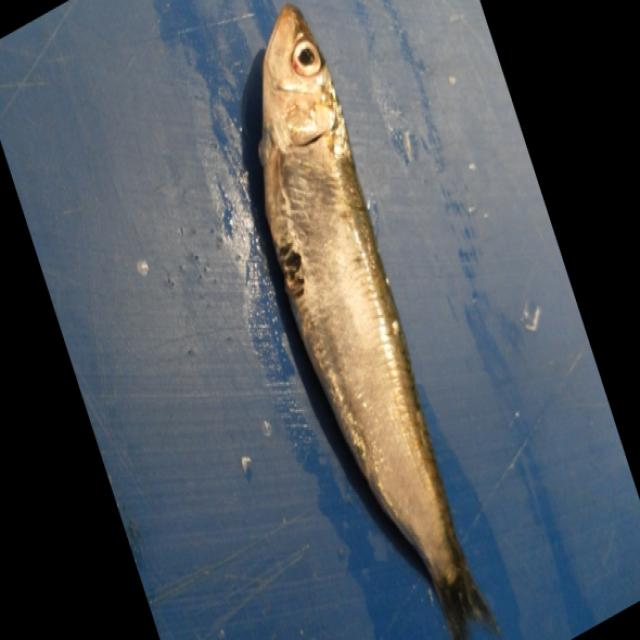Black-Sea-Sprat-tirsi-: (256, 4, 492, 640)
